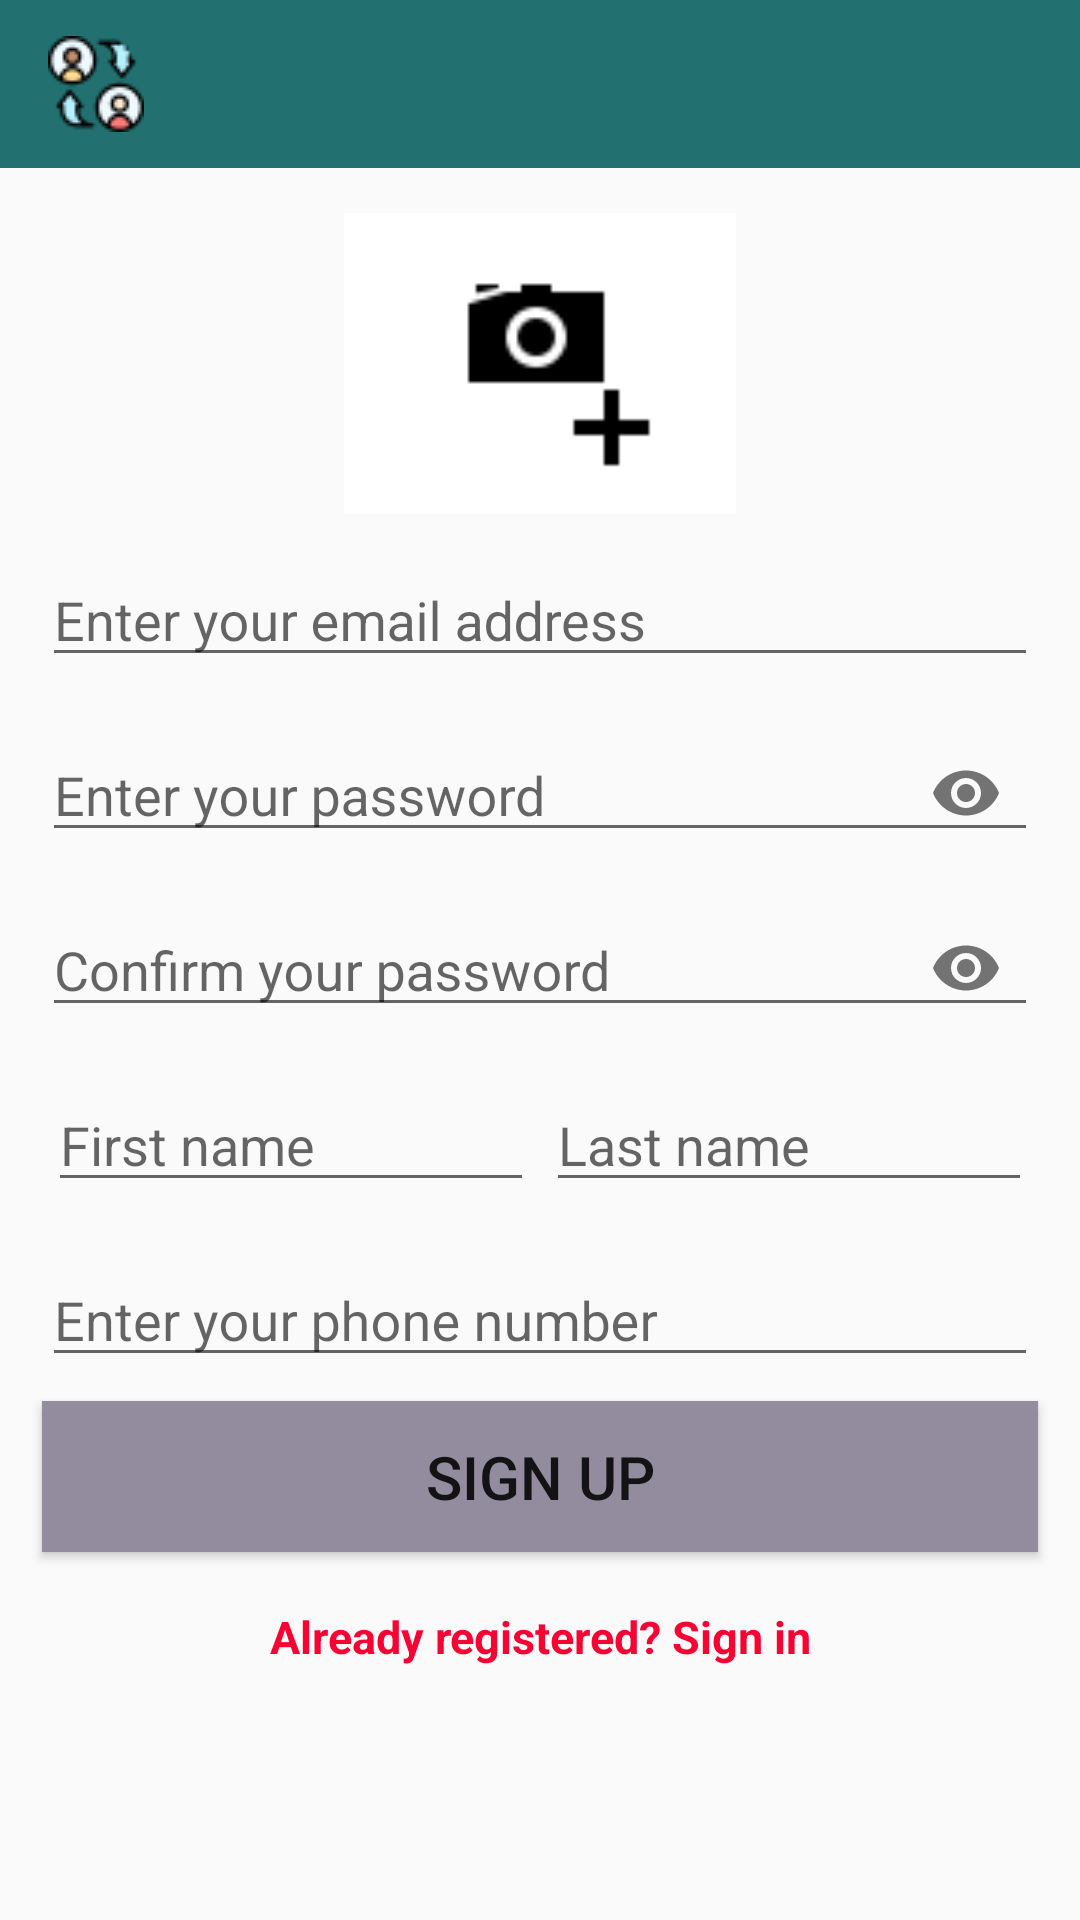

Named icons in this screenshot (1080px×1920px) and their centers, point (x, y):
add: point (559, 375)
